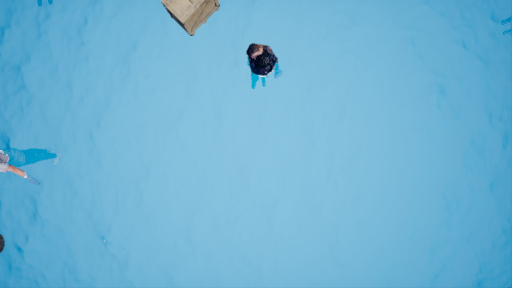person: (246, 42, 284, 91)
